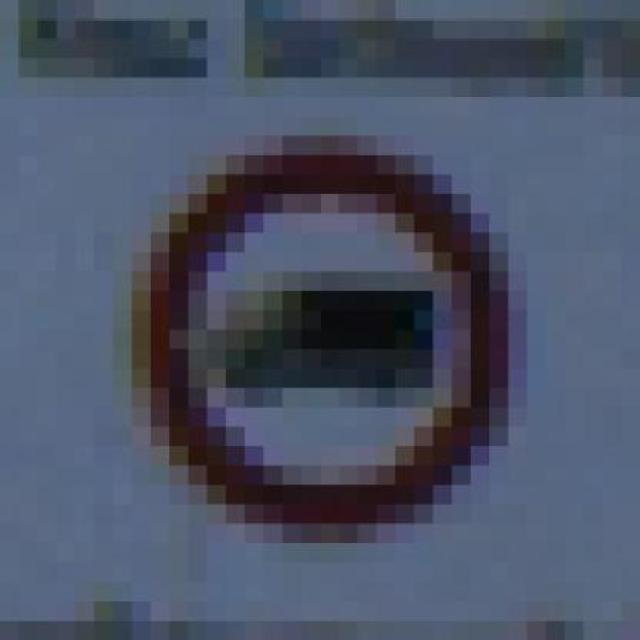Truck traffic is prohibited: (93, 119, 527, 526)
